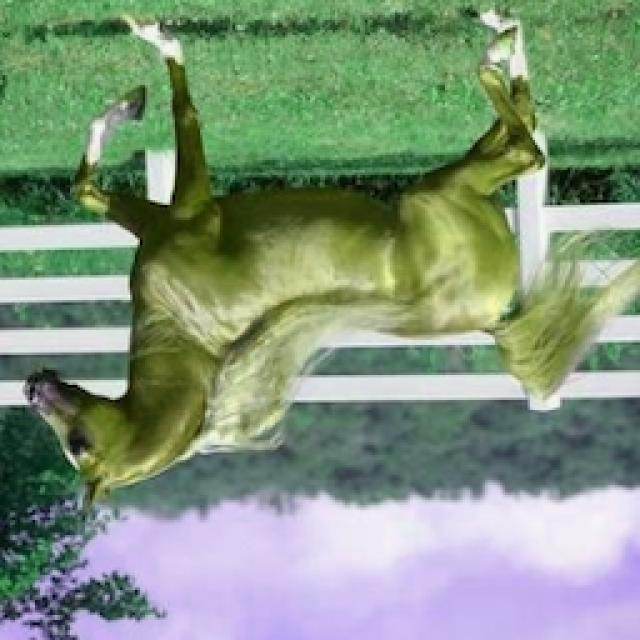Horse: (18, 3, 640, 516)
